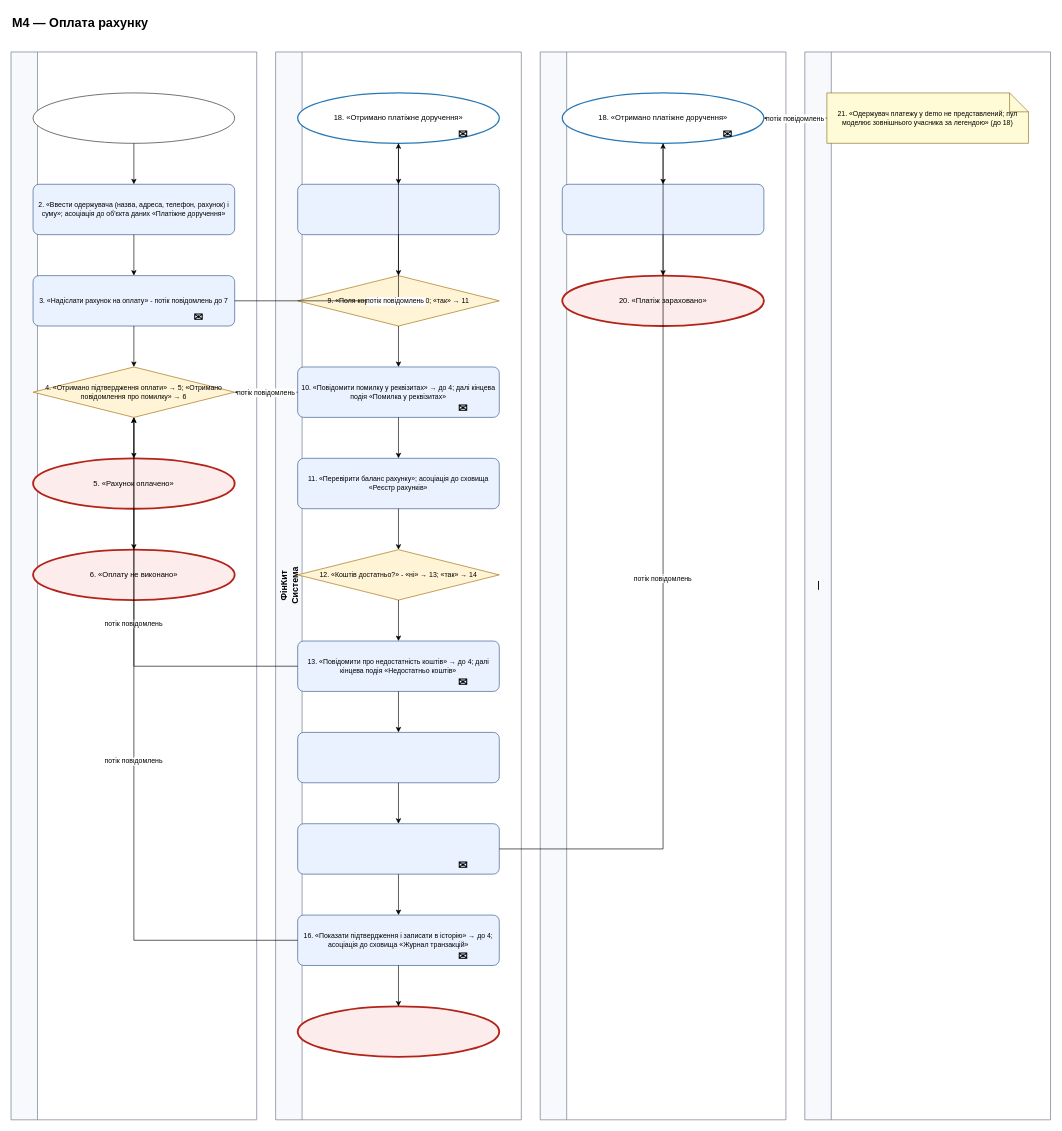
Some shapes in this 1062 by 1131 pixel diagram are drawn without their labels. Here are the shapes that lost their labels. From the top down, the box of each, then its label:
(32, 92, 235, 143): 1. «Надійшов рахунок до оплати»
(297, 184, 499, 235): 8. «Перевірити повноту і формат полів»
(562, 184, 764, 235): 19. «Зарахувати платіж»
(10, 51, 257, 1120): Клієнт
(540, 51, 786, 1120): Одержувач платежу
(297, 732, 499, 783): 14. «Списати кошти і сформувати платіжне доручення»
(297, 823, 499, 874): 15. «Надіслати доручення одержувачу» - потік повідомлень до 18
(296, 1005, 500, 1057): 17. «Оплачено»
